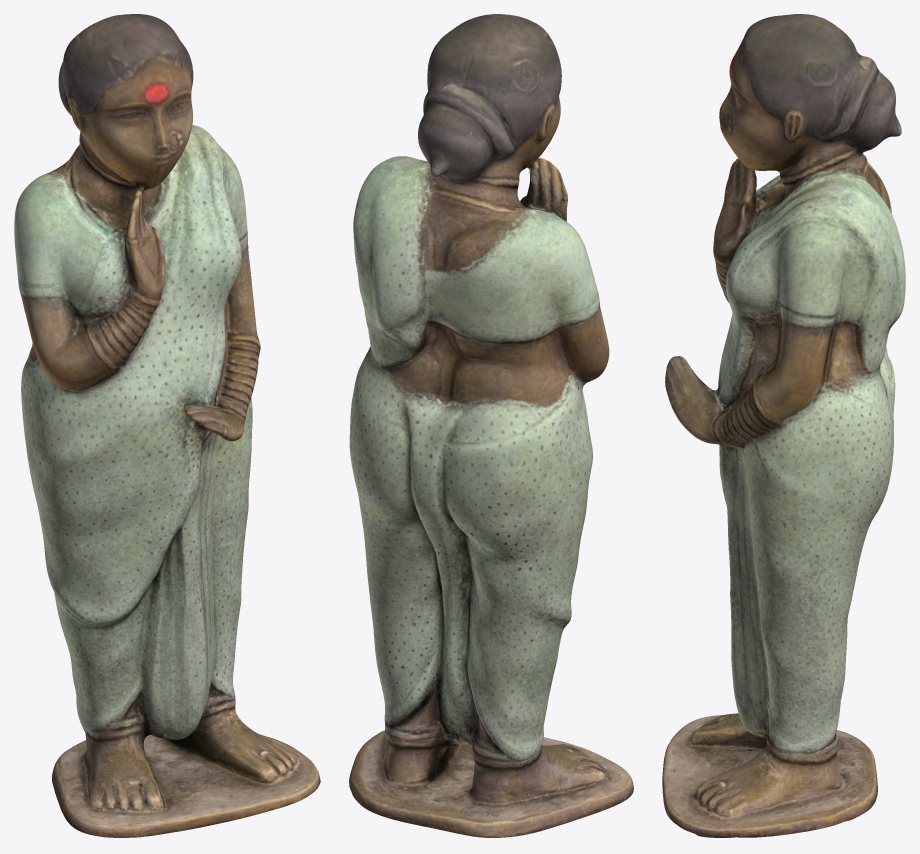
File: female-with-green-saree.glb
The picture shows the model from 3 angles, left to right: view 1: azimuth 30°, elevation 25°; view 2: azimuth 150°, elevation 25°; view 3: azimuth 270°, elevation 25°; orthographic projection. The views are drawn at different scales.
Parts seen in each view (by area): view 1: 03 - Female with green Saree2_edITED; view 2: 03 - Female with green Saree2_edITED; view 3: 03 - Female with green Saree2_edITED.
Part boxes in pixels (x1,y1,x2,y2): 03 - Female with green Saree2_edITED: (14, 14, 320, 837); 03 - Female with green Saree2_edITED: (349, 14, 633, 837); 03 - Female with green Saree2_edITED: (662, 14, 905, 837).
Bounding box in the file's own units: 0.1718 × 0.5 × 0.1472.
Materials: 2 (1 with a texture image).
